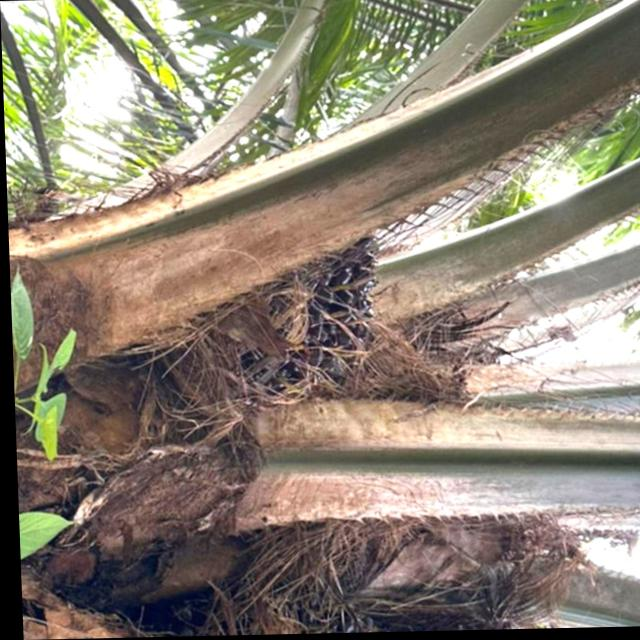almost: (180, 194, 398, 411)
